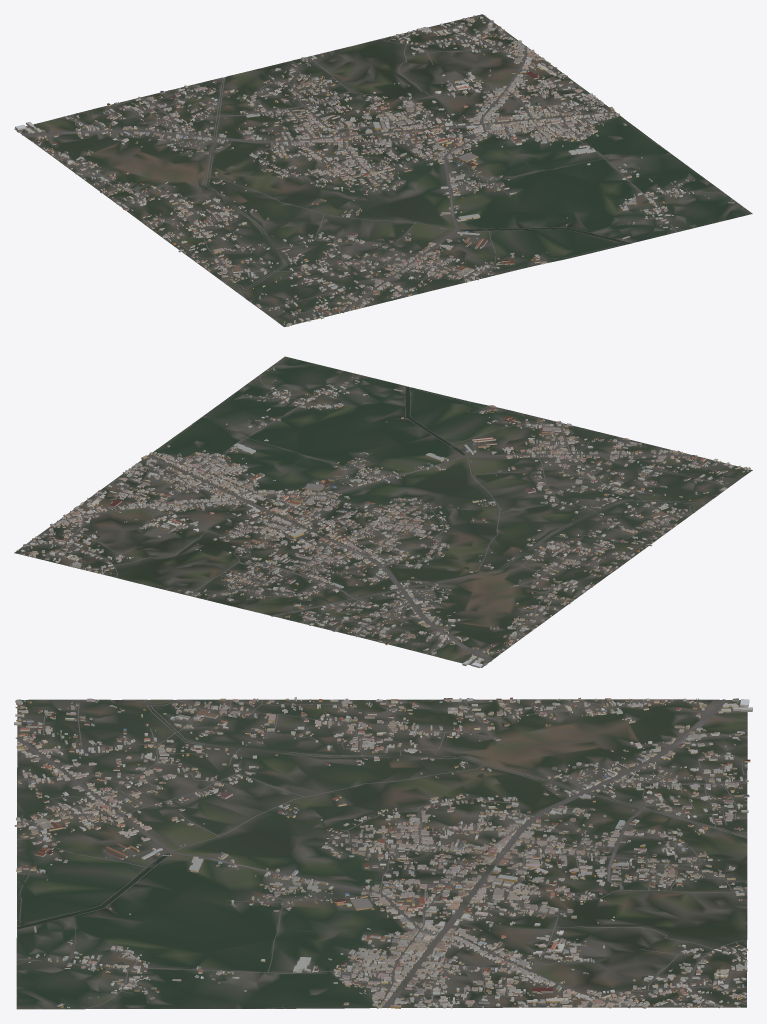
3 renders of one model, top to bottom at view 1: azimuth 30°, elevation 25°; view 2: azimuth 150°, elevation 25°; view 3: azimuth 270°, elevation 25°, orthographic. The views are drawn at different scales.
Visible parts, largest first — view 1: ground, buildings, roads; view 2: ground, buildings, roads; view 3: ground, buildings, roads, water.
Part boxes in pixels (left/top/right/bottom): ground: left=14, top=14, right=752, bottom=326; buildings: left=15, top=15, right=734, bottom=326; roads: left=22, top=15, right=727, bottom=313; ground: left=14, top=356, right=752, bottom=667; buildings: left=16, top=367, right=750, bottom=667; roads: left=17, top=375, right=724, bottom=662; ground: left=16, top=699, right=747, bottom=1009; buildings: left=14, top=697, right=752, bottom=1008; roads: left=16, top=699, right=747, bottom=1009; water: left=17, top=700, right=483, bottom=929.
Bounding box in the file's own units: 2820 × 34.25 × 2834.
